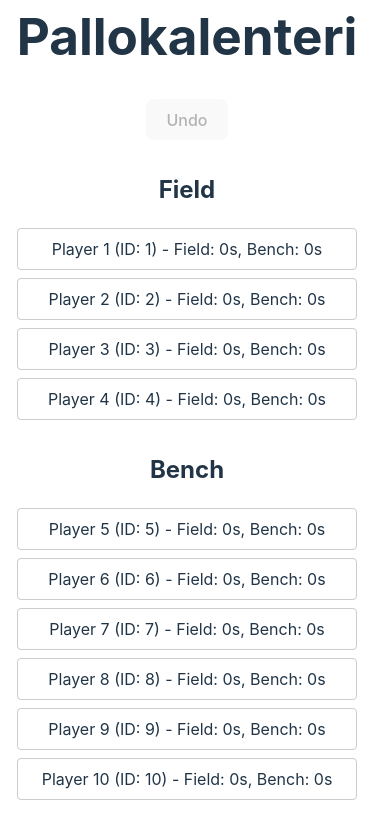
moves player from field to bench on click
Click the text with test id "field-player-1" at (187,249), box [17,228,357,270]
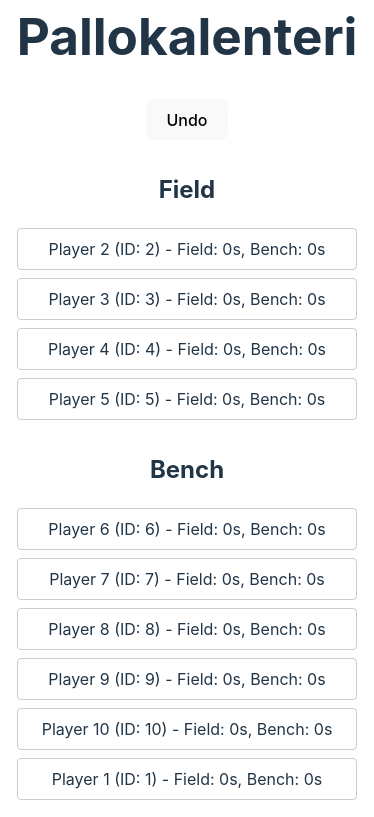
Now the text with test id "field-player-1" is gone
Now the text "Player 1 (ID: 1) - Field: 0s, Bench: 0s" is shown, box [17,758,357,800]
